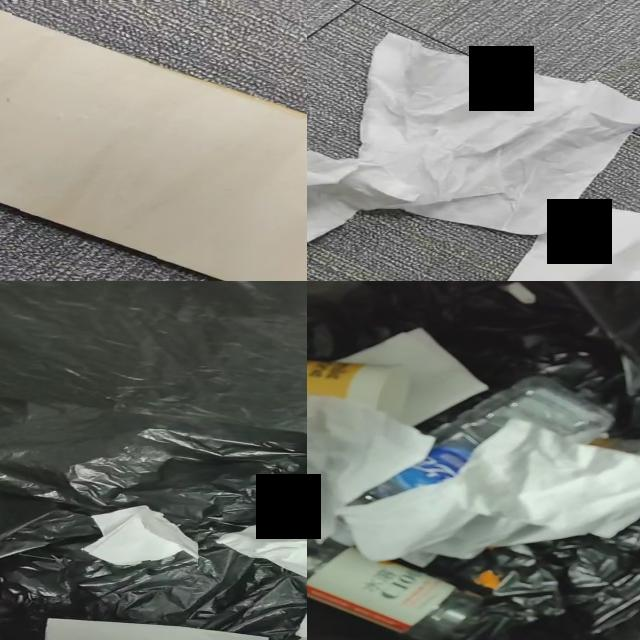bottle: (362, 378, 613, 501), (307, 541, 508, 640)
carton: (0, 10, 307, 281)
dixie_cup: (307, 361, 415, 427)
paper: (307, 34, 640, 243), (333, 419, 640, 561), (307, 396, 437, 543), (337, 328, 488, 427), (507, 203, 640, 281), (83, 507, 198, 566)
